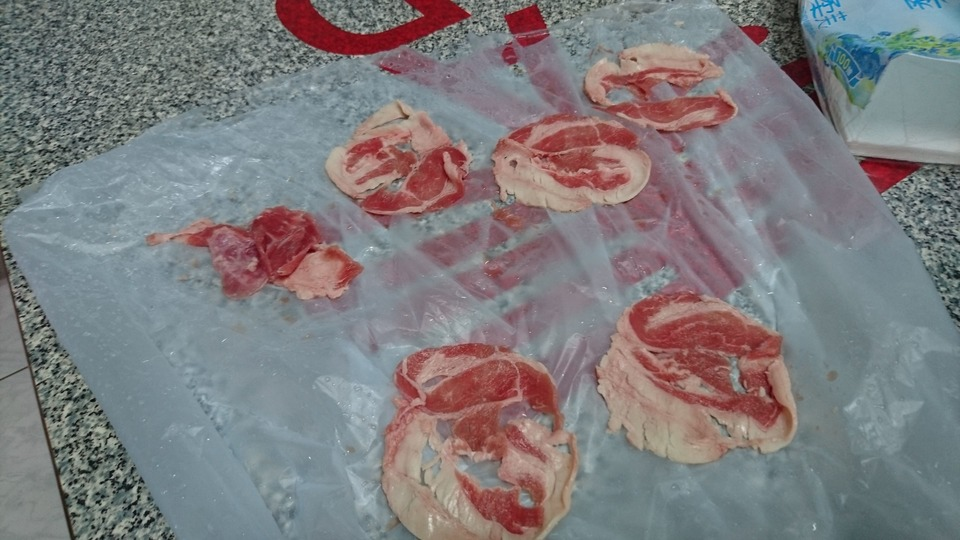restructured meat: (373, 329, 581, 540), (598, 281, 808, 460), (145, 207, 354, 303), (491, 98, 651, 219), (322, 95, 472, 218), (578, 18, 731, 123)
